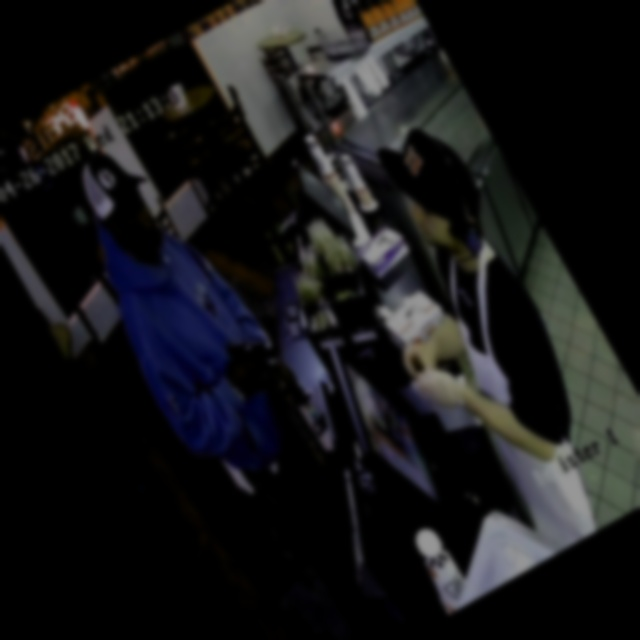gun: (199, 299, 301, 409)
